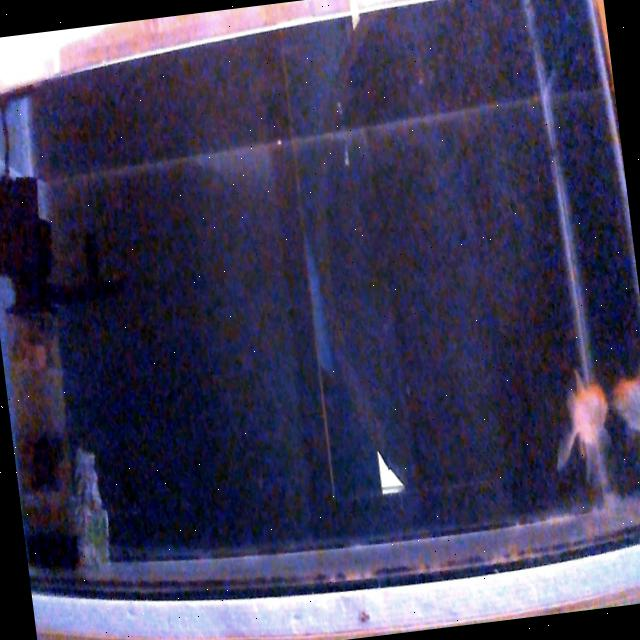fish: (542, 361, 616, 475), (607, 368, 640, 440)
